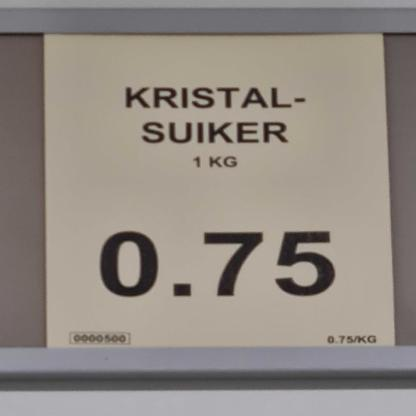prtg: (43, 33, 399, 350)
